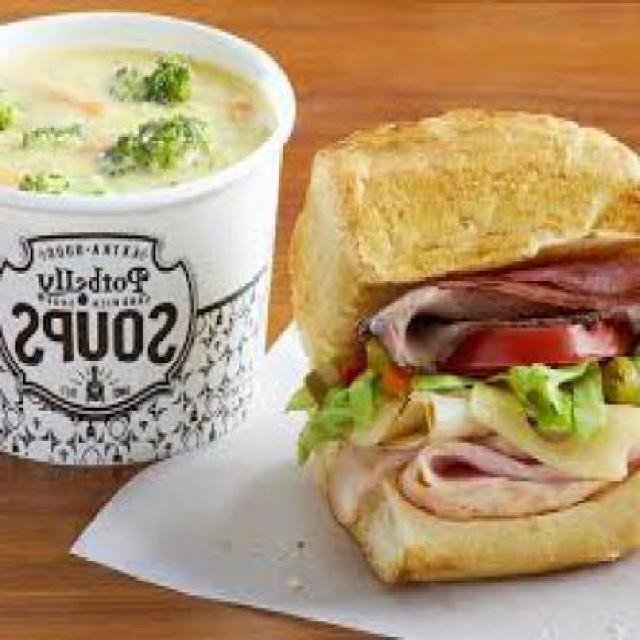clam chowder: (2, 6, 300, 471)
